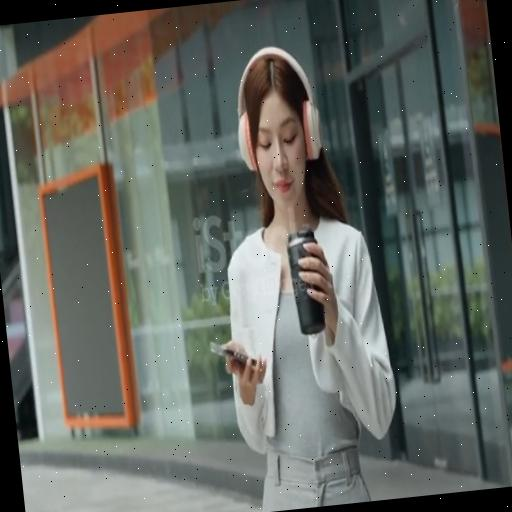earphone: (221, 44, 337, 179)
